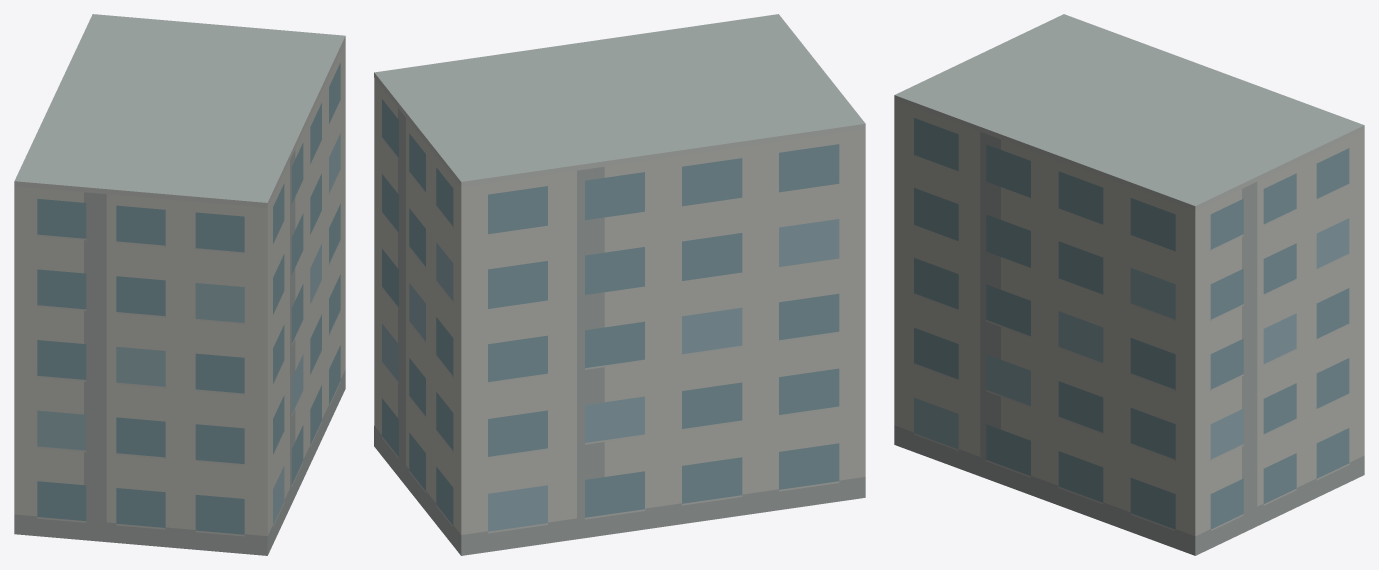
The model's file is survey-upis-32761271.glb.
3 renders of one model, left to right at view 1: azimuth 30°, elevation 25°; view 2: azimuth 150°, elevation 25°; view 3: azimuth 270°, elevation 25°, orthographic. The views are drawn at different scales.
Visible parts, largest first — view 1: survey-upis-32761271.tmp; view 2: survey-upis-32761271.tmp; view 3: survey-upis-32761271.tmp.
Part boxes in pixels (left/top/right/bottom): survey-upis-32761271.tmp: left=14, top=14, right=345, bottom=555; survey-upis-32761271.tmp: left=374, top=14, right=865, bottom=555; survey-upis-32761271.tmp: left=894, top=14, right=1364, bottom=555.
Bounding box in the file's own units: 20.04 × 17 × 20.72.
